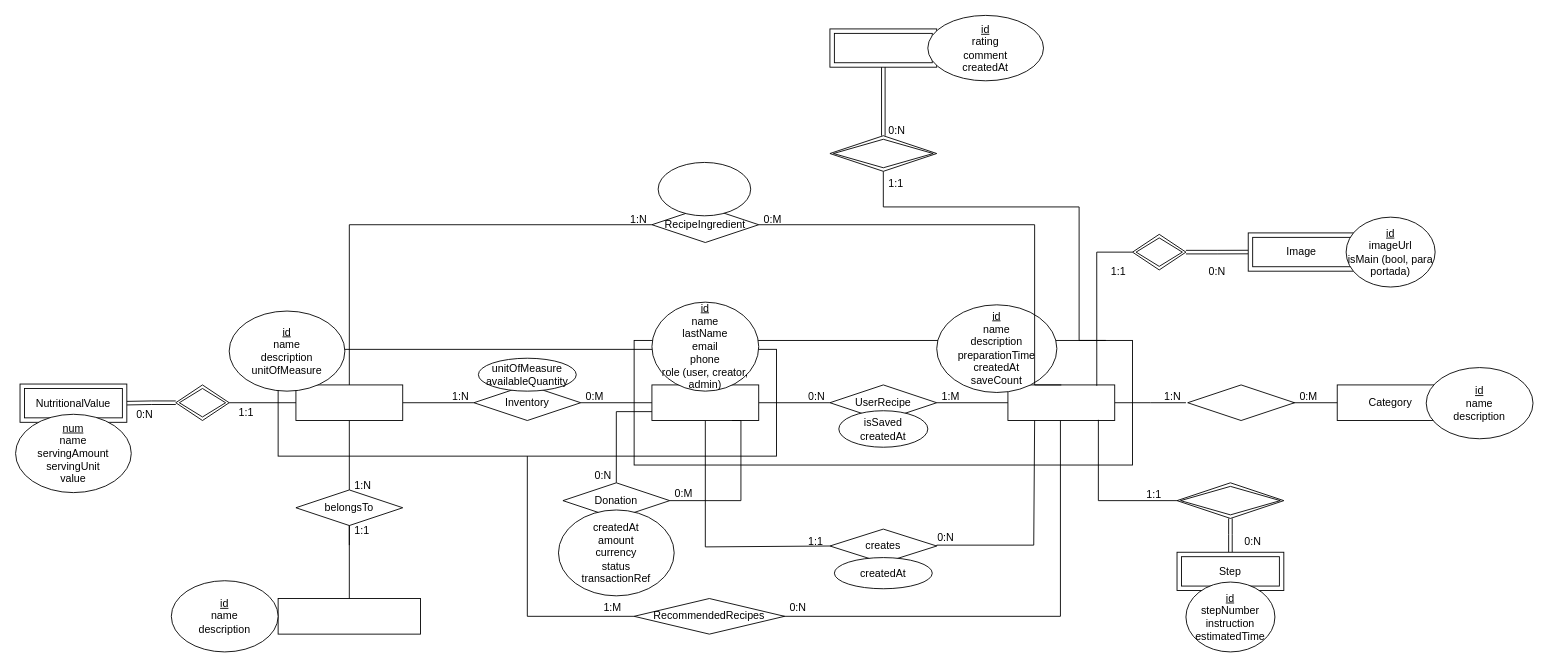
Image size: 1549x668. Some labels were removed from this diagram. Here are the shapes that lost their labels. From the top down, the centre of each, then its label:
At (883,47): "Review".
At (704,189): "requiredQuantity".
At (349,402): "Ingredient".
At (705,402): "User".
At (1061,402): "Recipe".
At (1241,402): "RecipeCategory".
At (349,616): "IngredientCategory".
